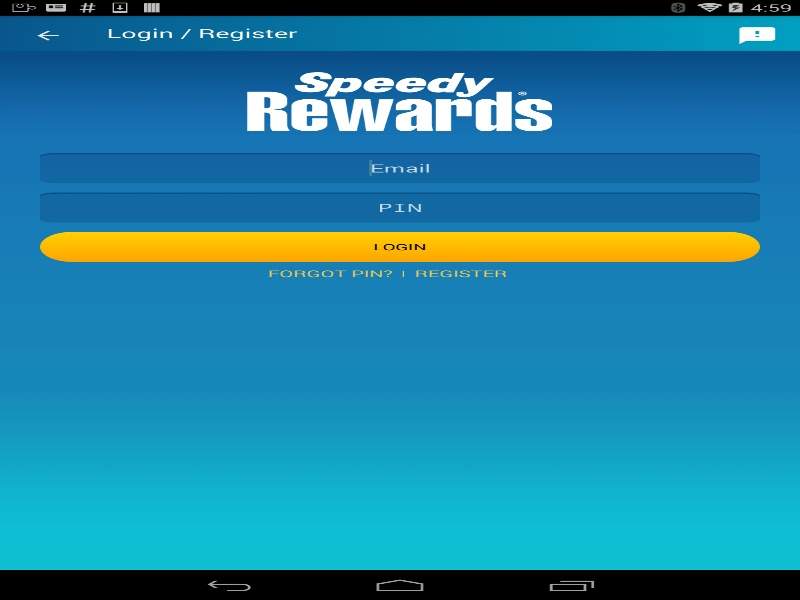Button: (40, 231, 760, 261), (267, 261, 392, 285), (414, 261, 532, 285), (10, 18, 85, 53)
Input: (40, 153, 760, 183), (40, 192, 760, 222)
